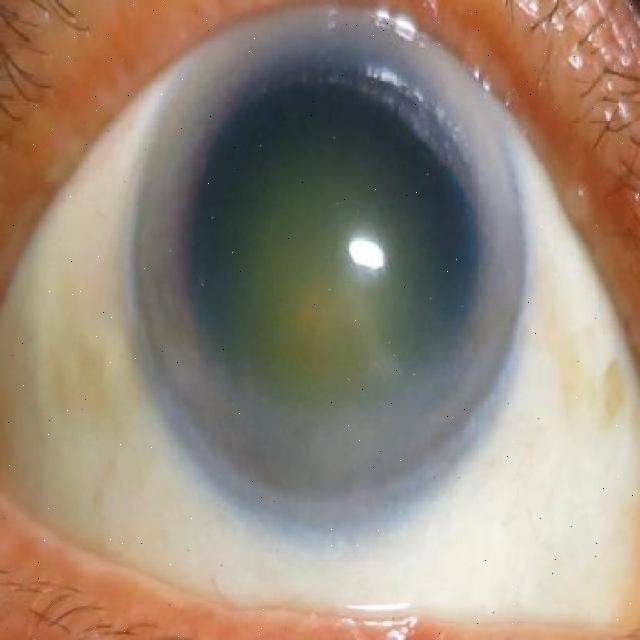Cataract: (124, 2, 524, 539)
